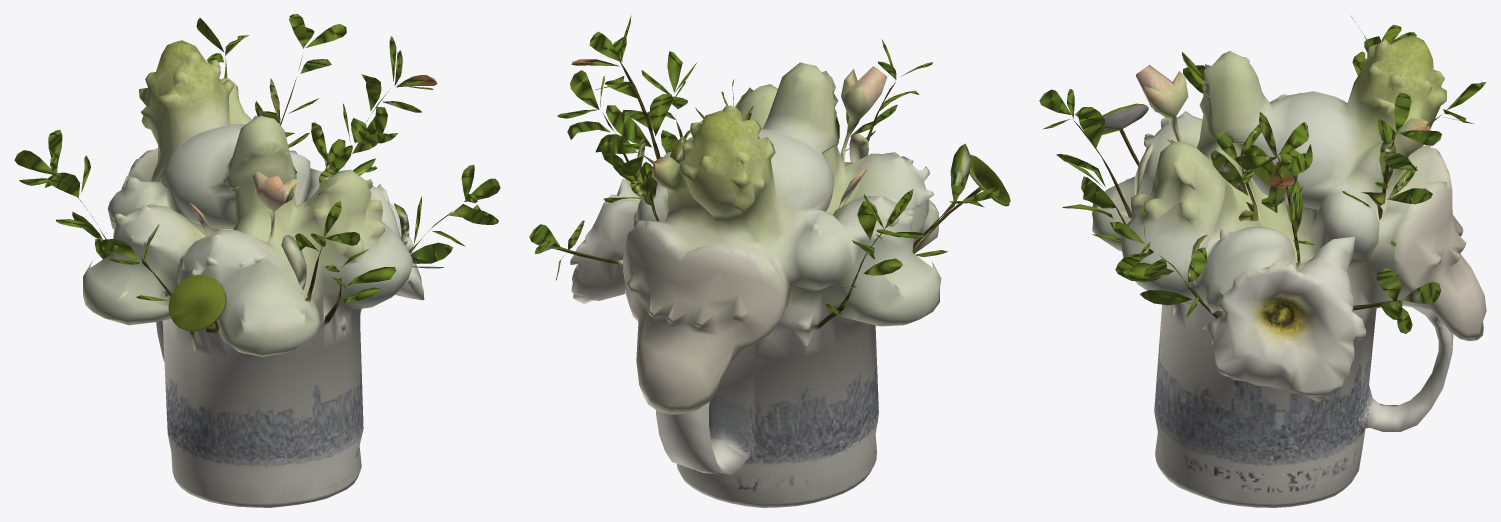
Rendered from flower.glb.
The picture shows the model from 3 angles, left to right: view 1: azimuth 30°, elevation 25°; view 2: azimuth 150°, elevation 25°; view 3: azimuth 270°, elevation 25°; orthographic projection. The views are drawn at different scales.
Visible parts, largest first — view 1: tripo_node_26cc154d-7a31-479b-b59c-630b5a41afcf; view 2: tripo_node_26cc154d-7a31-479b-b59c-630b5a41afcf; view 3: tripo_node_26cc154d-7a31-479b-b59c-630b5a41afcf.
Part boxes in pixels (x1,y1,x2,y2): tripo_node_26cc154d-7a31-479b-b59c-630b5a41afcf: (14,14,500,507); tripo_node_26cc154d-7a31-479b-b59c-630b5a41afcf: (529,15,1010,507); tripo_node_26cc154d-7a31-479b-b59c-630b5a41afcf: (1039,16,1486,507).
Bounding box in the file's own units: 0.9863 × 0.998 × 0.9434.
1 material, 1 textured.
